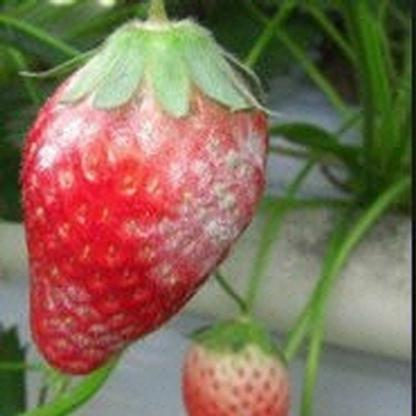Strawberry_Powdery_Mildew_Fruit: (19, 16, 280, 376)
